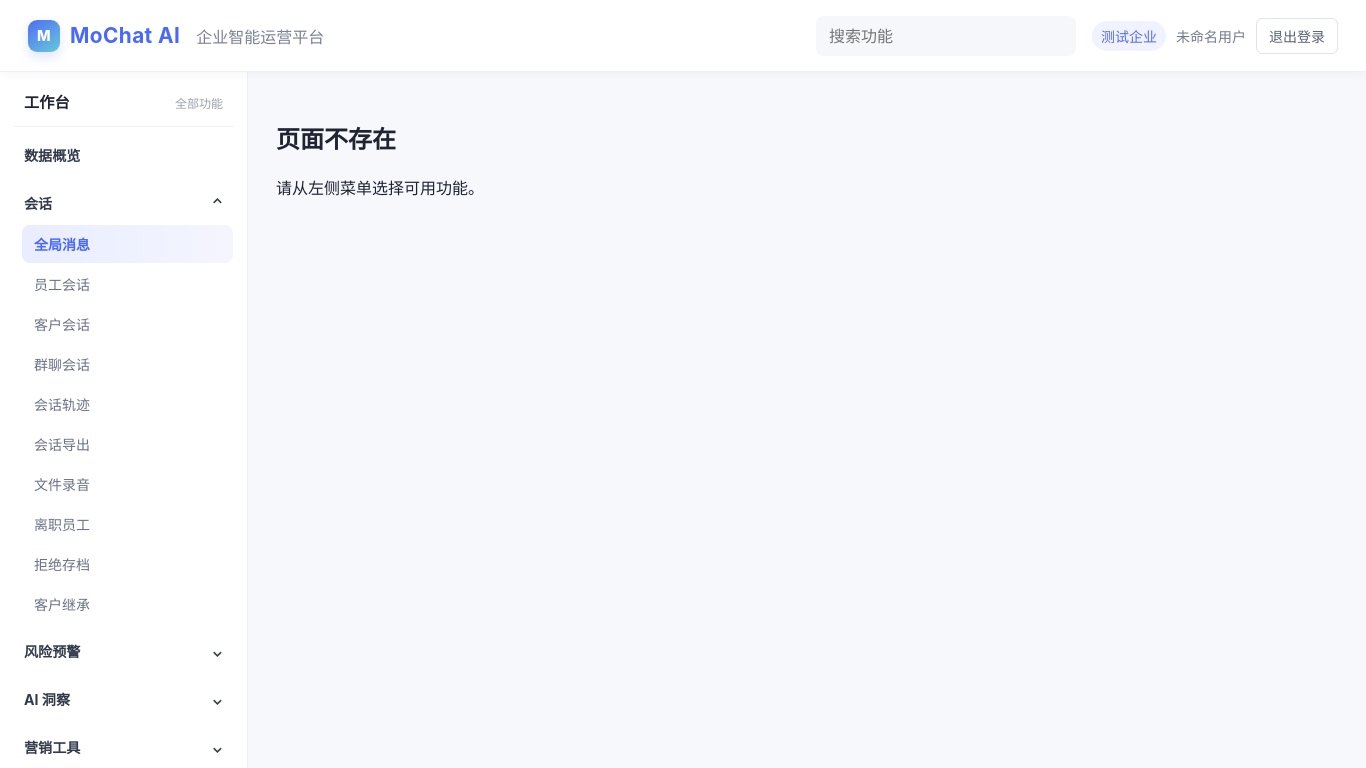
Dashboard shell › renders the manifest-driven groups, current route, search, and logout controls
Expected: the navigation bar named "主菜单" is shown, [0,72,248,767]
Expected: the link "M MoChat AI" is shown, [28,20,180,52]
Click the button "会话 ⌃" at (124, 203), box [14,183,233,223]
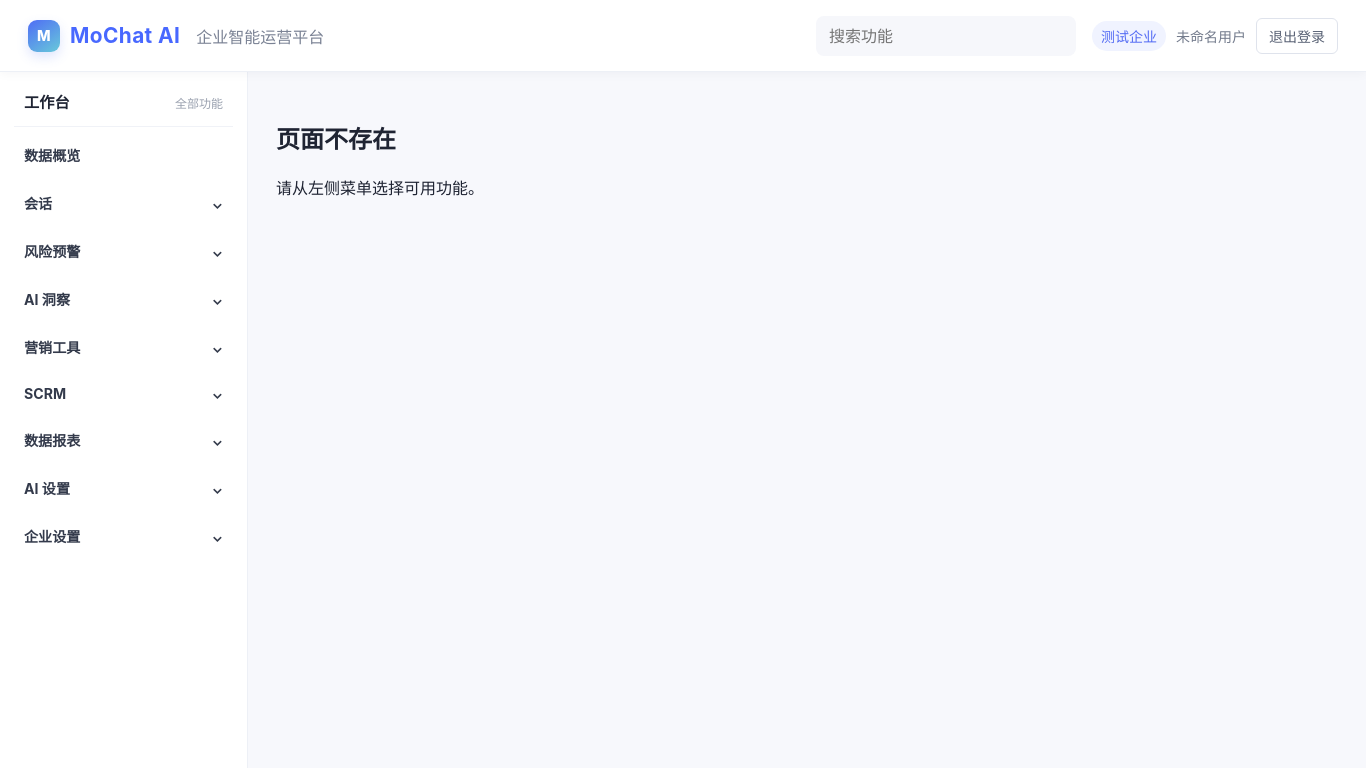
Expected: the search field labelled "搜索功能" is shown, [816,16,1076,56]
Expected: the link "全局消息" is gone
